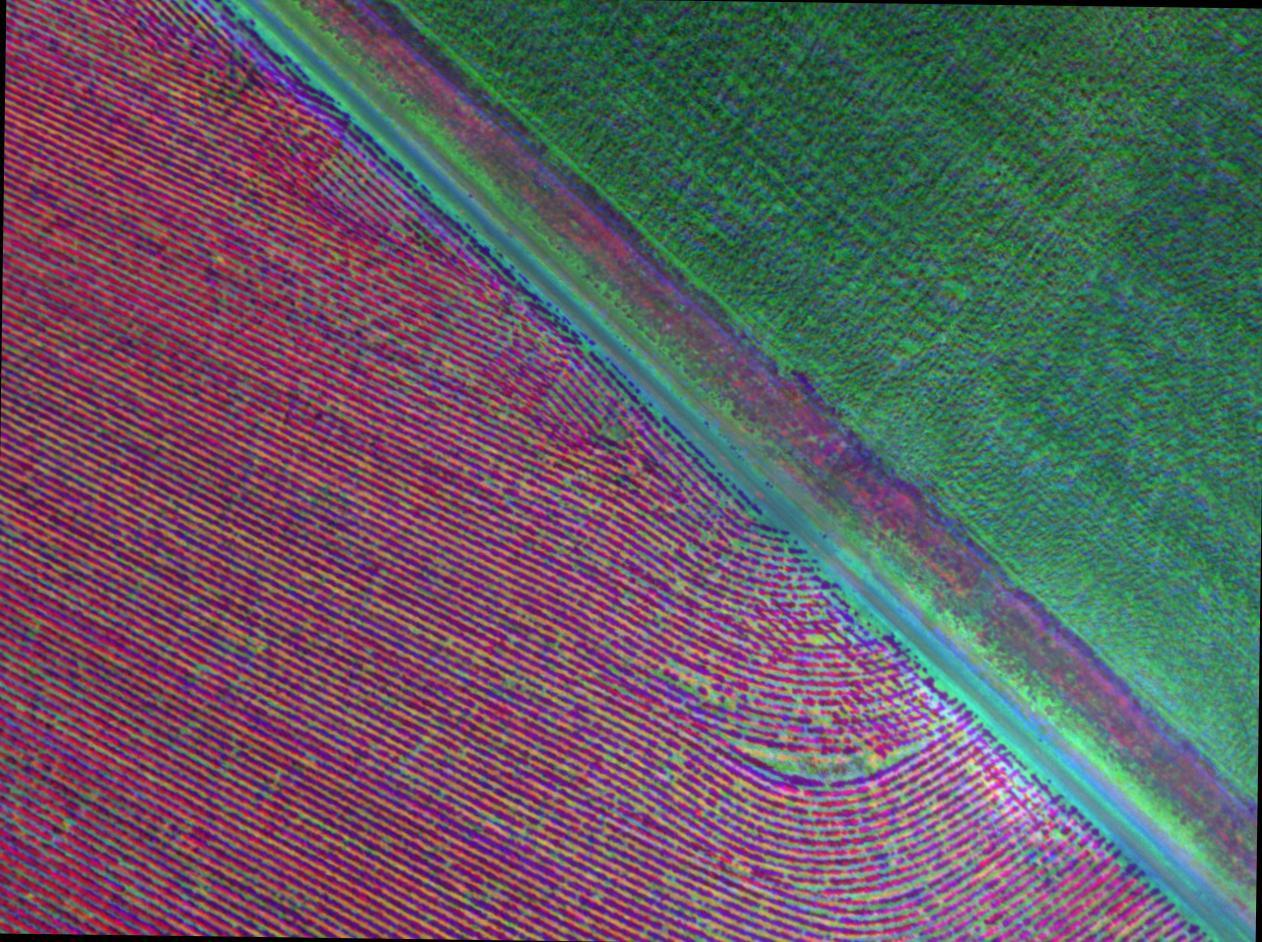dc: (718, 723, 939, 786), (811, 858, 964, 911), (993, 858, 1063, 936), (658, 655, 736, 710), (781, 610, 854, 664)
